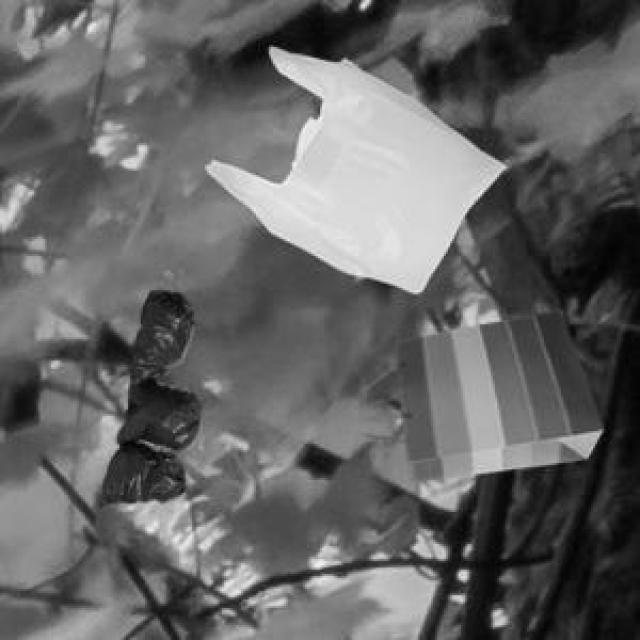miscellaneous trash: (94, 286, 198, 506)
paper: (382, 307, 600, 478)
